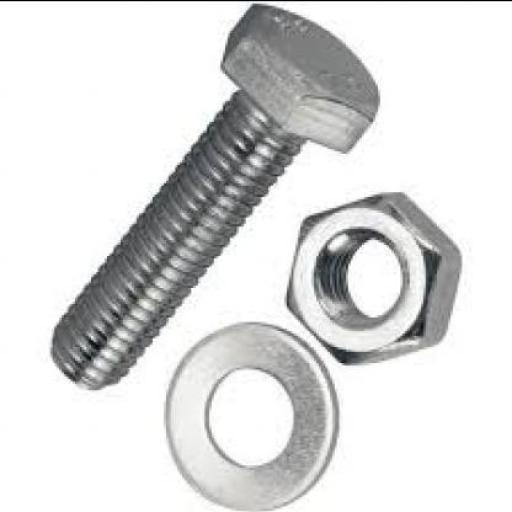metal: (48, 1, 380, 388), (162, 318, 339, 510), (284, 189, 462, 361)
